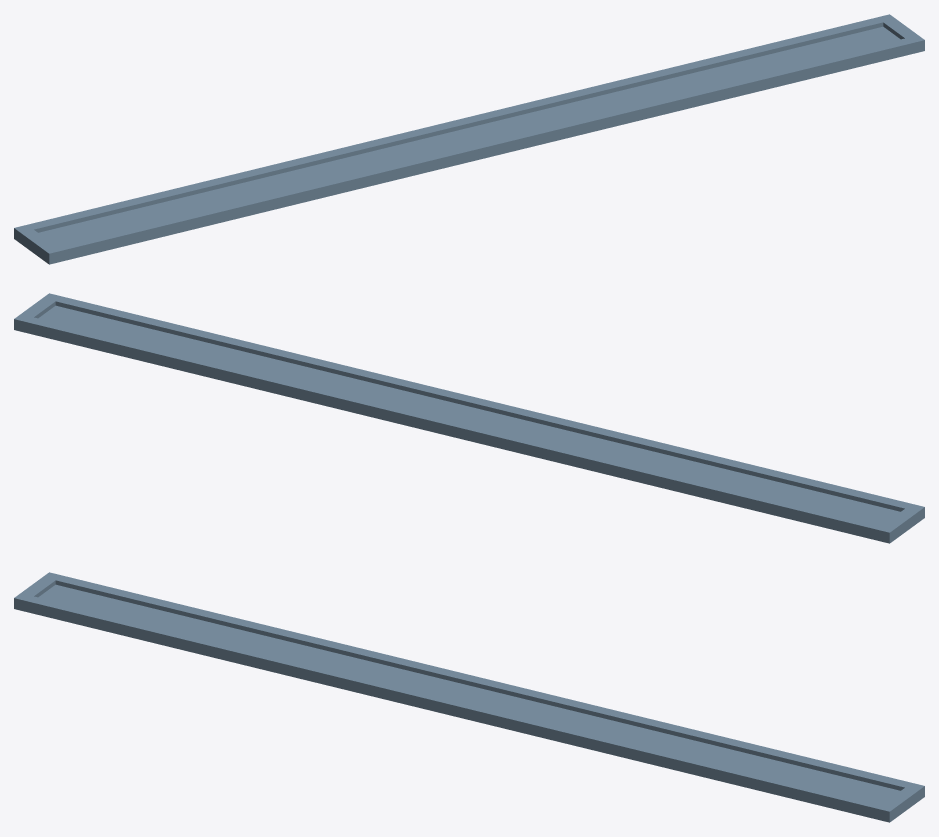
File: Grass_Line.fbx
The picture shows the model from 3 angles, top to bottom: view 1: azimuth 30°, elevation 25°; view 2: azimuth 150°, elevation 25°; view 3: azimuth 330°, elevation 25°; orthographic projection.
Visible parts, largest first — view 1: Grass_Line; view 2: Grass_Line; view 3: Grass_Line.
Part boxes in pixels (x1,y1,x2,y2): Grass_Line: (14, 14, 924, 264); Grass_Line: (14, 293, 924, 543); Grass_Line: (14, 572, 924, 822).
Bounding box in the file's own units: 790 × 9.42 × 55.07.
